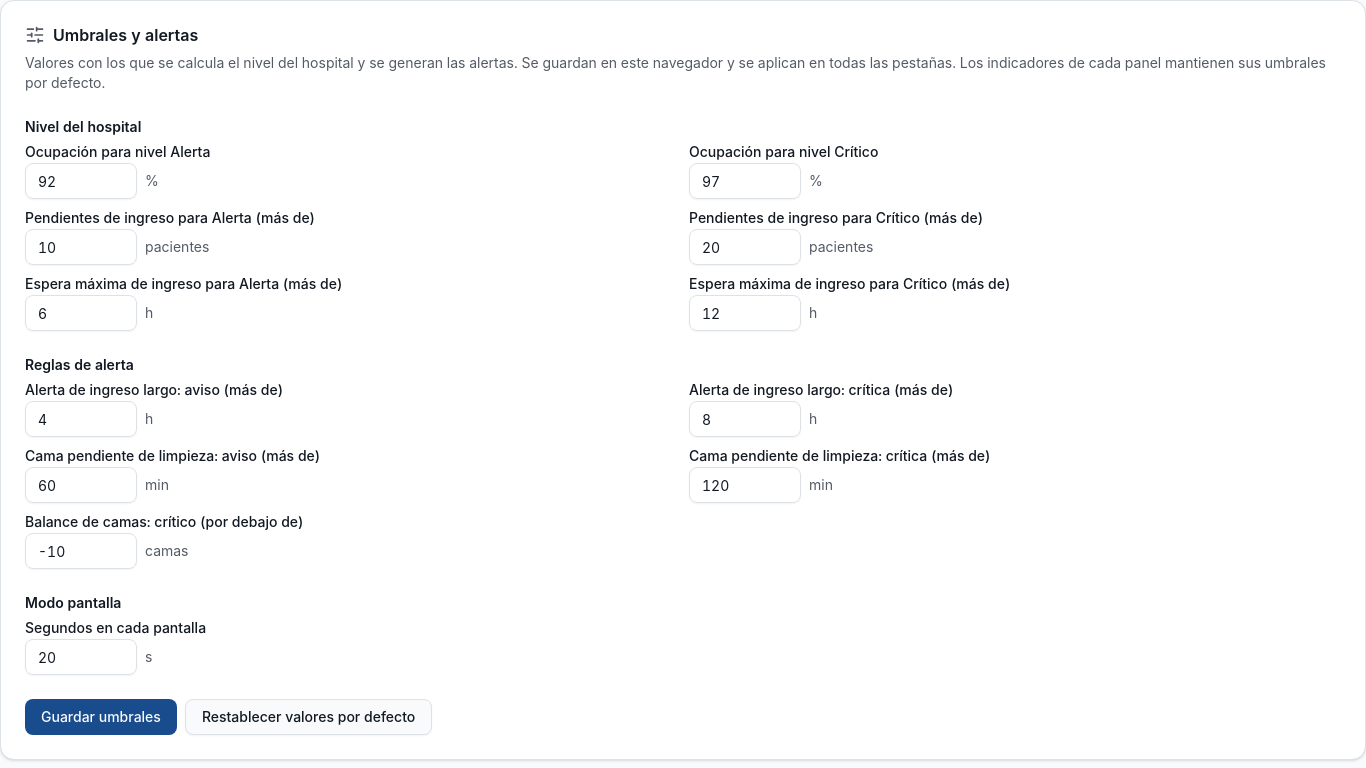
ThresholdsCard › restores the defaults
Replace the text in the field labelled "Segundos en cada pantalla" with "45" at (81,657), box [25, 639, 137, 675]
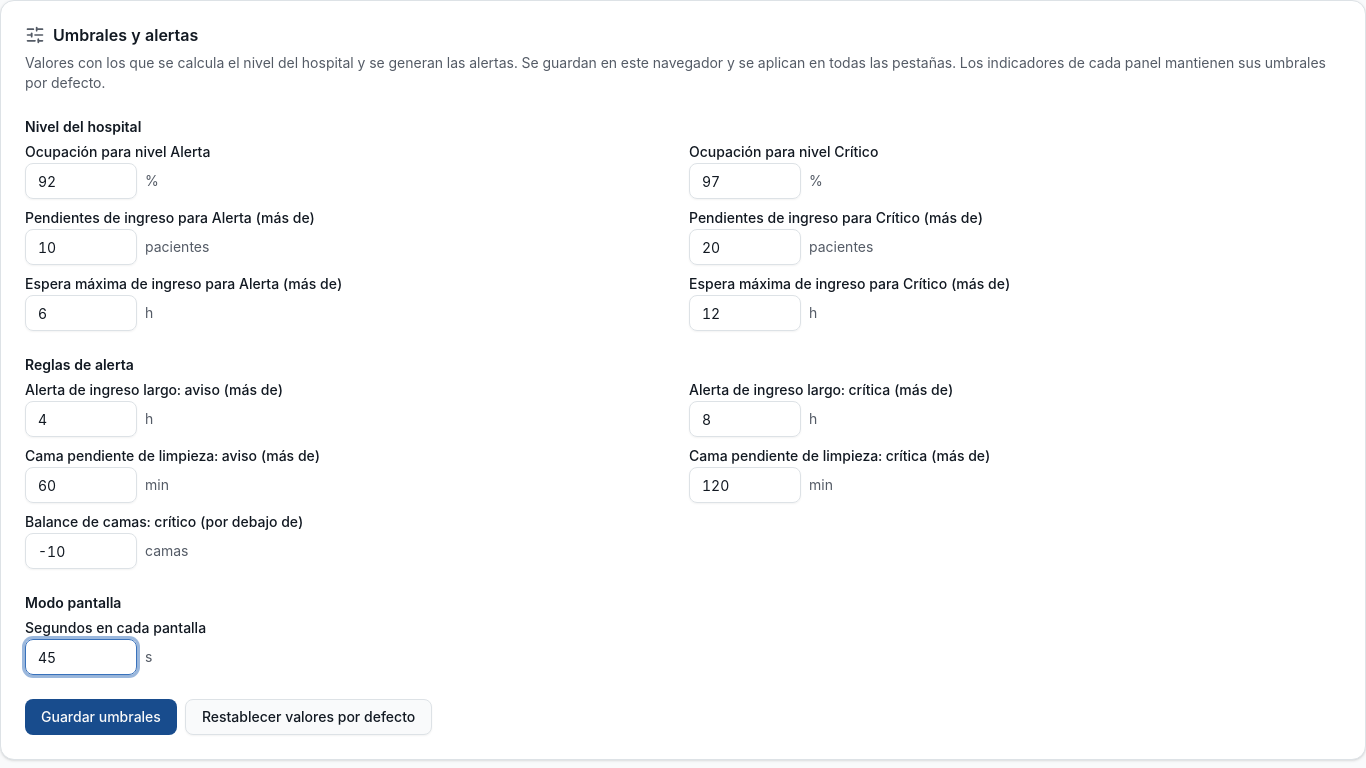
Click the button "Guardar umbrales".
click(101, 717)  # box [25, 699, 177, 735]
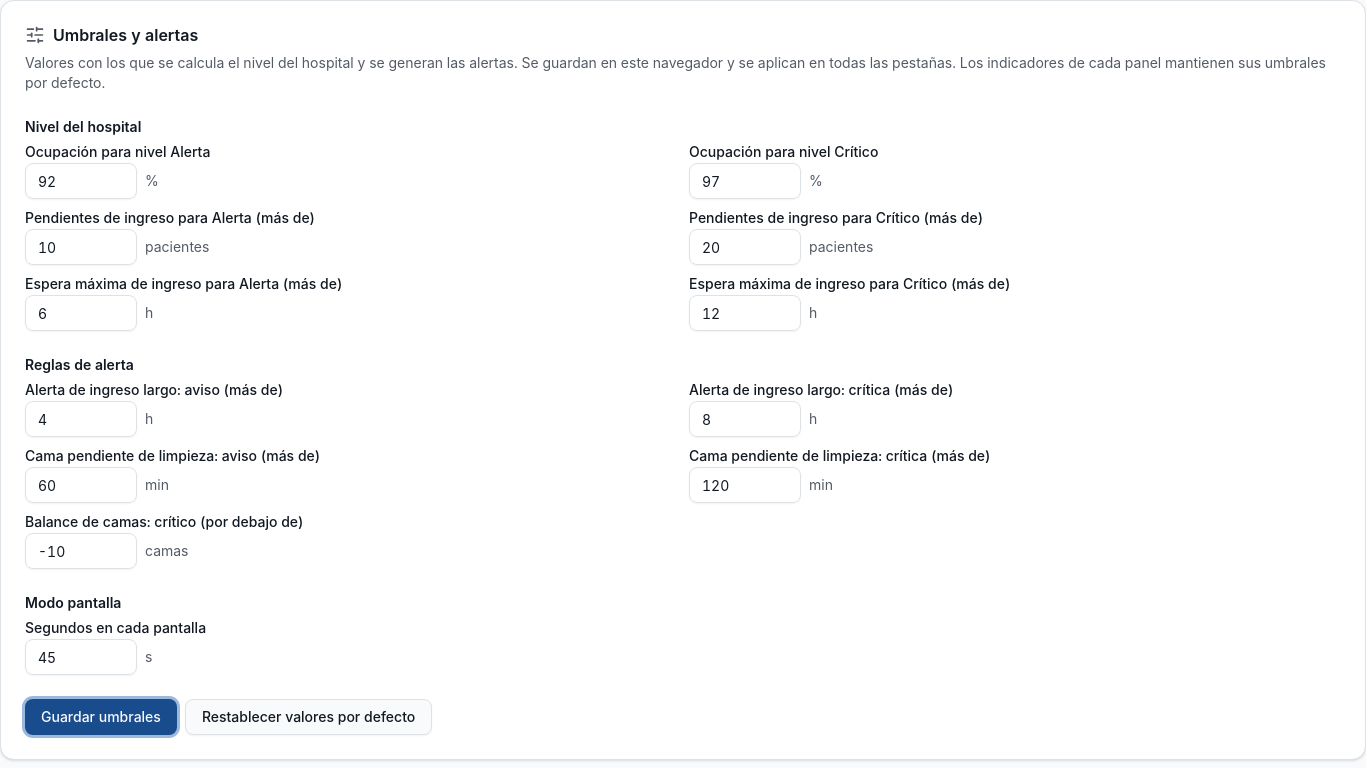
Click the button "Restablecer valores por defecto".
click(309, 717)  # box [185, 699, 432, 735]
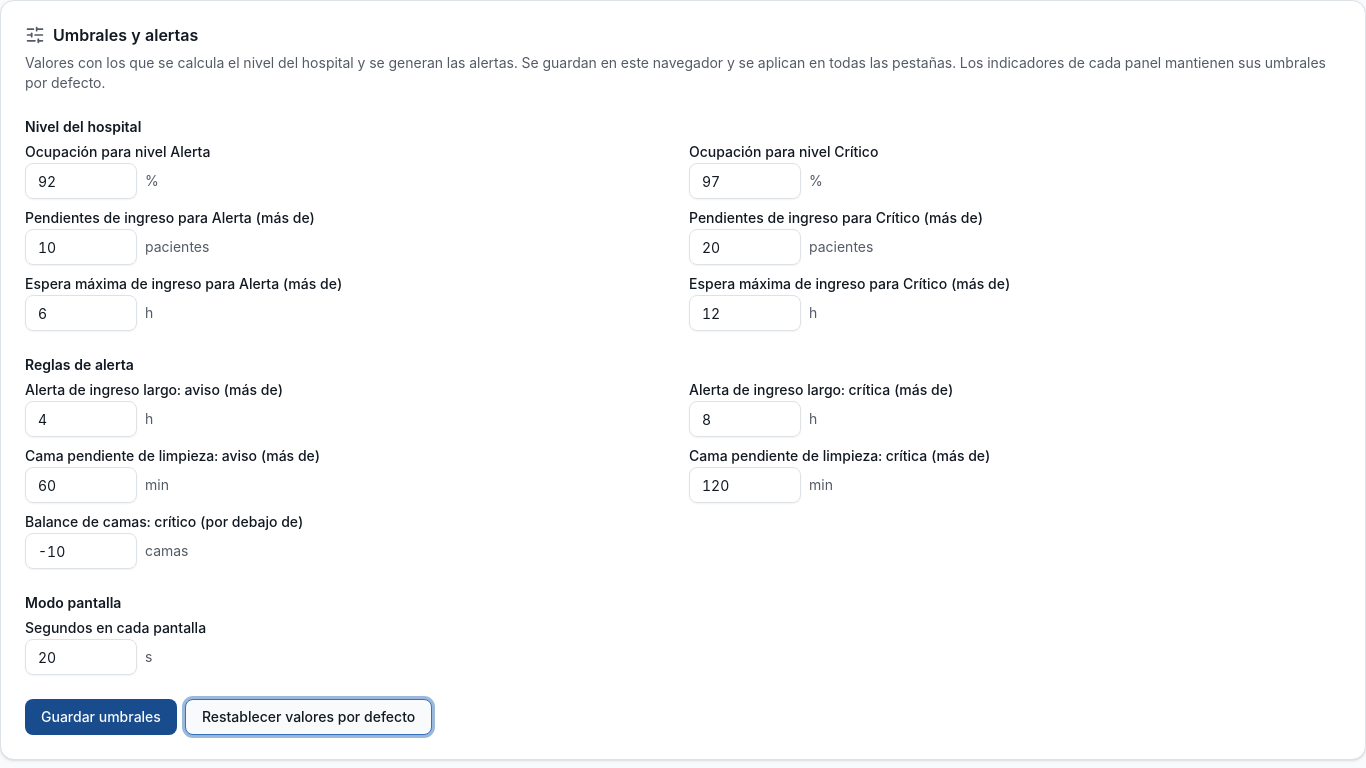
Result: the field labelled "Segundos en cada pantalla" holds "20" at [25, 639, 137, 675]
